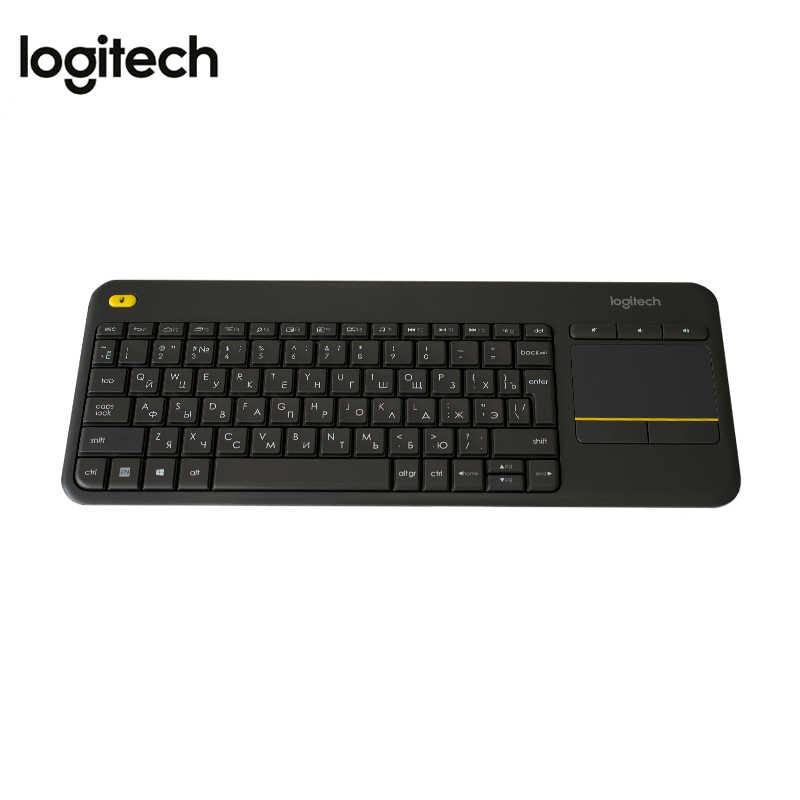logitech-keyboard-k400: (55, 275, 739, 525)
